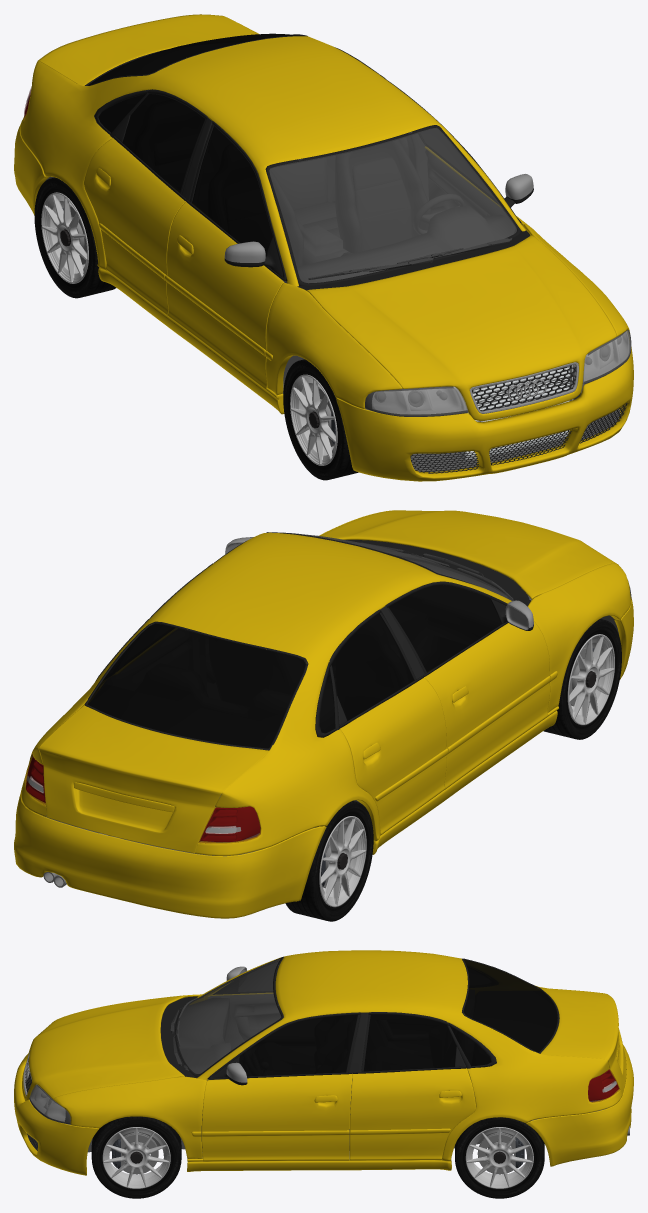
The picture shows the model from 3 angles, top to bottom: view 1: azimuth 30°, elevation 25°; view 2: azimuth 150°, elevation 25°; view 3: azimuth 270°, elevation 25°; orthographic projection. The views are drawn at different scales.
Parts seen in each view (by area): view 1: a4-b5-body_1, hood_62, windshield_48, front-bumper_18, front-door_23, front-fender_13, rear-door_92, seats-front_71, side-glass.001_25, dashboard_68, trunk_109, side-glass.002_94 (+28 smaller); view 2: a4-b5-body_1, trunk_109, rear-bumper_86, rear-glass_50, front-door_23, hood_62, rear-door_92, front-fender_13, side-glass.001_25, side-glass.002_94, tire-low-v1-02.001_105, rotiform-wheel.003_44 (+17 smaller); view 3: a4-b5-body_1, front-door_23, hood_62, rear-door_92, windshield_48, front-fender_13, side-glass.001_25, rear-glass_50, trunk_109, rear-bumper_86, side-glass.002_94, front-bumper_18 (+23 smaller).
Boxes of the visible parts, x1,y1,x2,y2 form: a4-b5-body_1: (20, 23, 525, 286); hood_62: (307, 235, 616, 420); windshield_48: (269, 127, 516, 283); front-bumper_18: (336, 347, 633, 481); front-door_23: (166, 146, 531, 390); front-fender_13: (266, 224, 629, 408); rear-door_92: (83, 138, 185, 315); seats-front_71: (269, 140, 430, 266); side-glass.001_25: (192, 126, 497, 281); dashboard_68: (280, 206, 515, 283); trunk_109: (38, 14, 256, 85); side-glass.002_94: (122, 94, 205, 192); a4-b5-body_1: (21, 532, 511, 855); trunk_109: (38, 705, 268, 853); rear-bumper_86: (14, 791, 326, 918); rear-glass_50: (87, 623, 305, 748); front-door_23: (424, 621, 550, 789); hood_62: (320, 510, 616, 598); rear-door_92: (340, 677, 446, 835); front-fender_13: (319, 510, 630, 712); side-glass.001_25: (388, 585, 501, 672); side-glass.002_94: (332, 613, 414, 720); tire-low-v1-02.001_105: (285, 801, 373, 921); rotiform-wheel.003_44: (567, 634, 614, 725); a4-b5-body_1: (197, 950, 622, 1161); front-door_23: (202, 993, 352, 1161); hood_62: (22, 996, 184, 1100); rear-door_92: (350, 1068, 476, 1160); windshield_48: (177, 958, 283, 1073); front-fender_13: (53, 994, 207, 1158); side-glass.001_25: (207, 961, 357, 1078); rear-glass_50: (463, 960, 557, 1052); trunk_109: (539, 988, 626, 1095); rear-bumper_86: (526, 1045, 633, 1166); side-glass.002_94: (363, 1014, 456, 1071); front-bumper_18: (14, 1053, 98, 1175).
Bounding box in the file's own units: 2.07 × 1.55 × 4.98.
35 materials, 5 textured.
